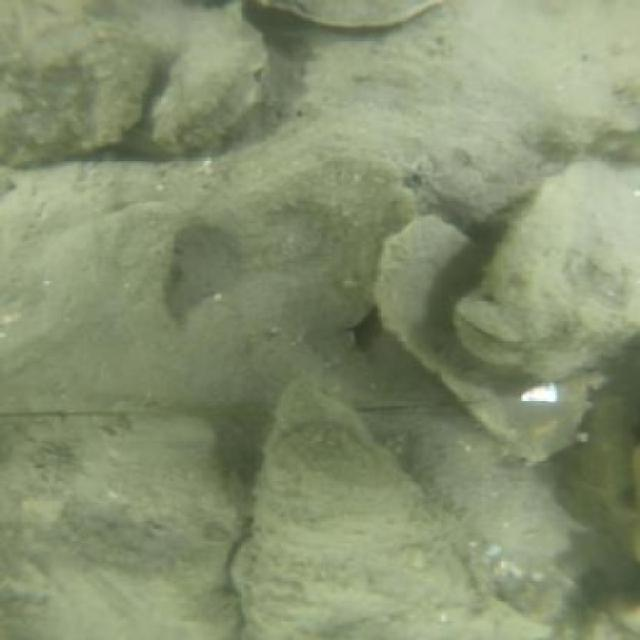Oyster-Closed: (235, 378, 493, 640), (251, 0, 444, 26)
Oyster-Indeterminate: (380, 213, 598, 465), (45, 425, 238, 640), (459, 160, 628, 381), (201, 160, 415, 333), (2, 6, 151, 162), (29, 202, 187, 317), (155, 9, 263, 157)
